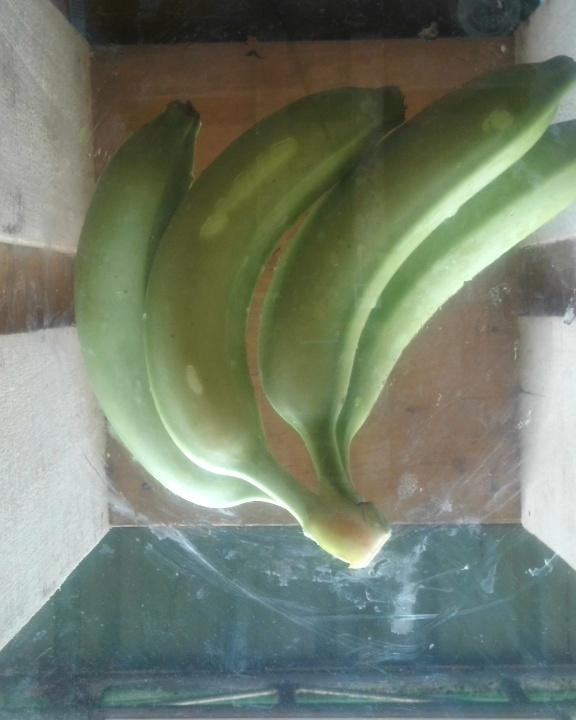SPOT: (65, 56, 576, 578)
